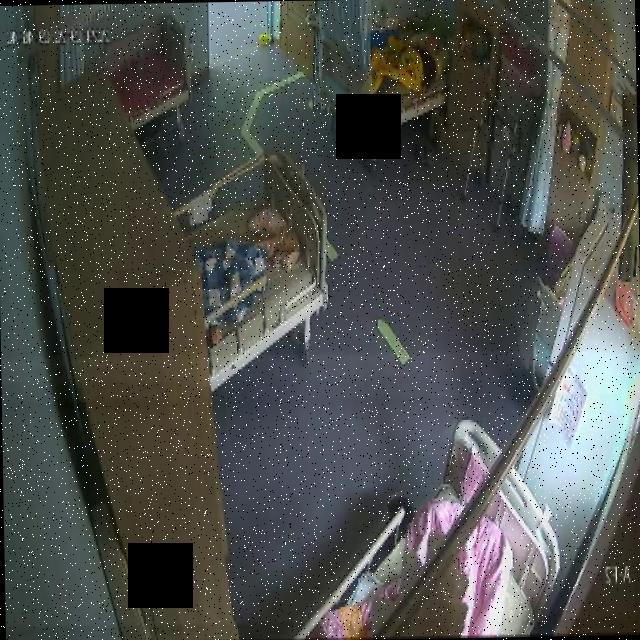bed: (314, 415, 562, 640), (179, 149, 327, 379), (316, 18, 448, 138), (109, 11, 192, 130)
